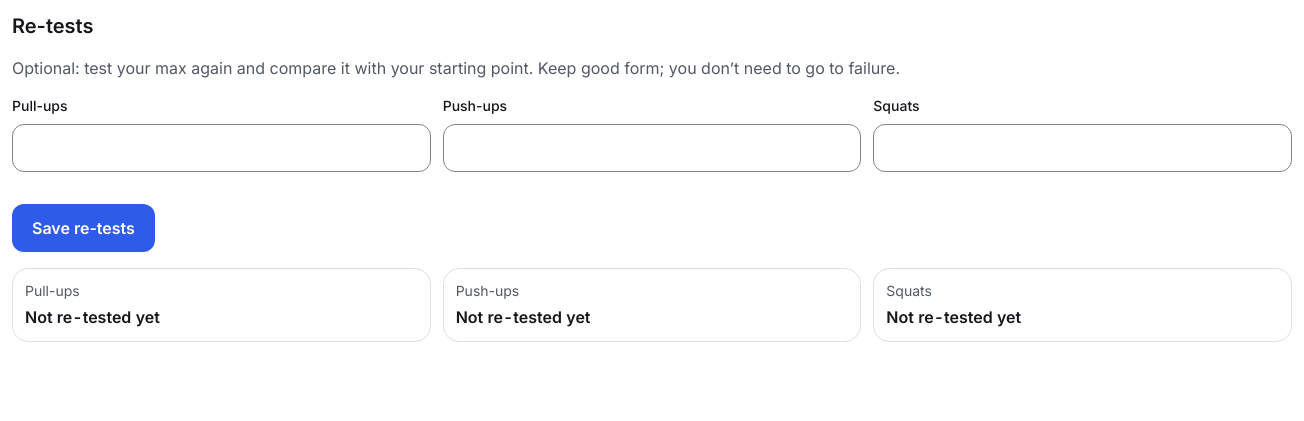
Test: RetestForm (D73) › a failed save says so and keeps the values
Type "12" into the number field labelled "Pull-ups".
click(221, 148); type("12")  # box [12, 124, 431, 172]
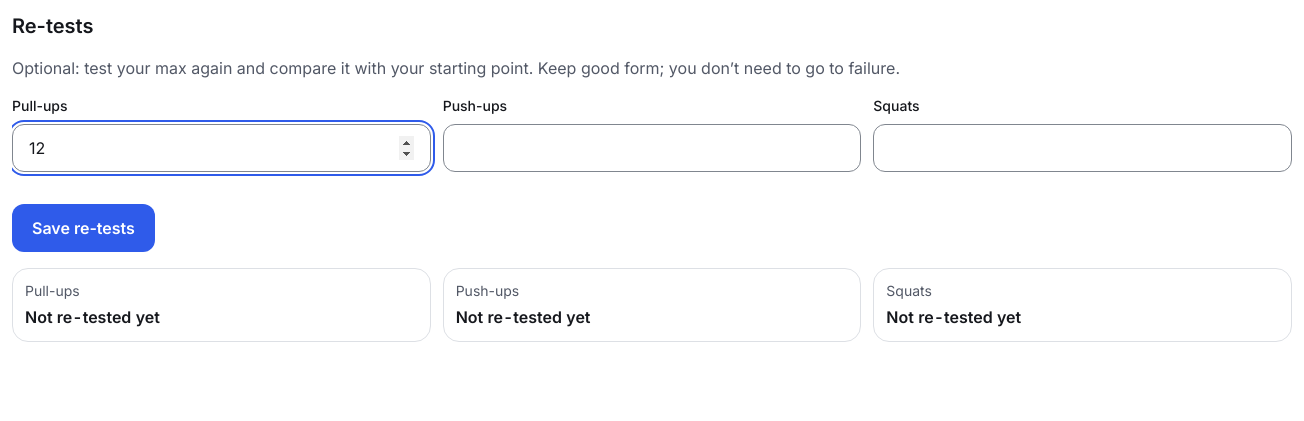
Click the button "Save re-tests".
click(83, 228)  # box [12, 204, 155, 252]
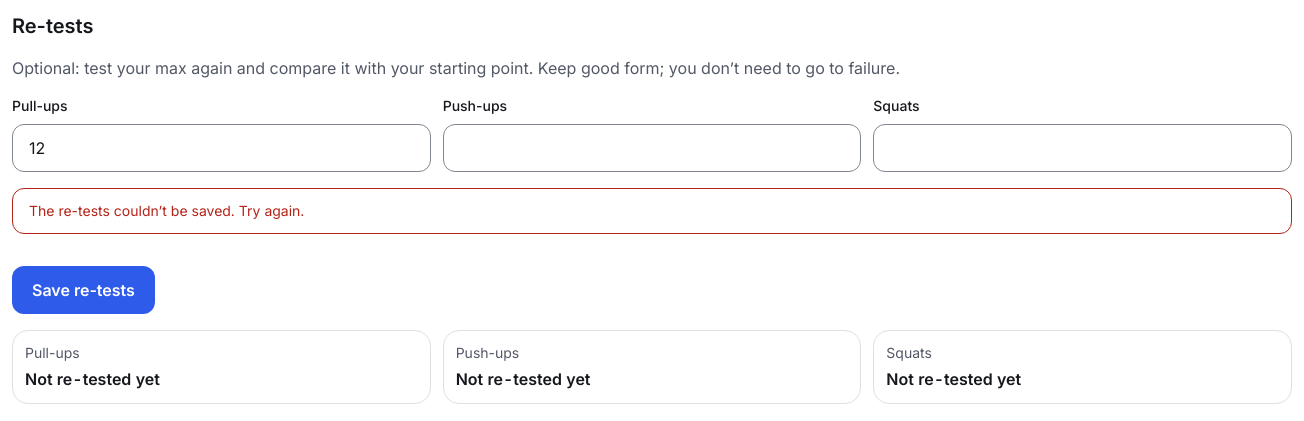
Now the message reads "The re-tests couldn’t be saved. Try again.", box [29, 202, 304, 219]
